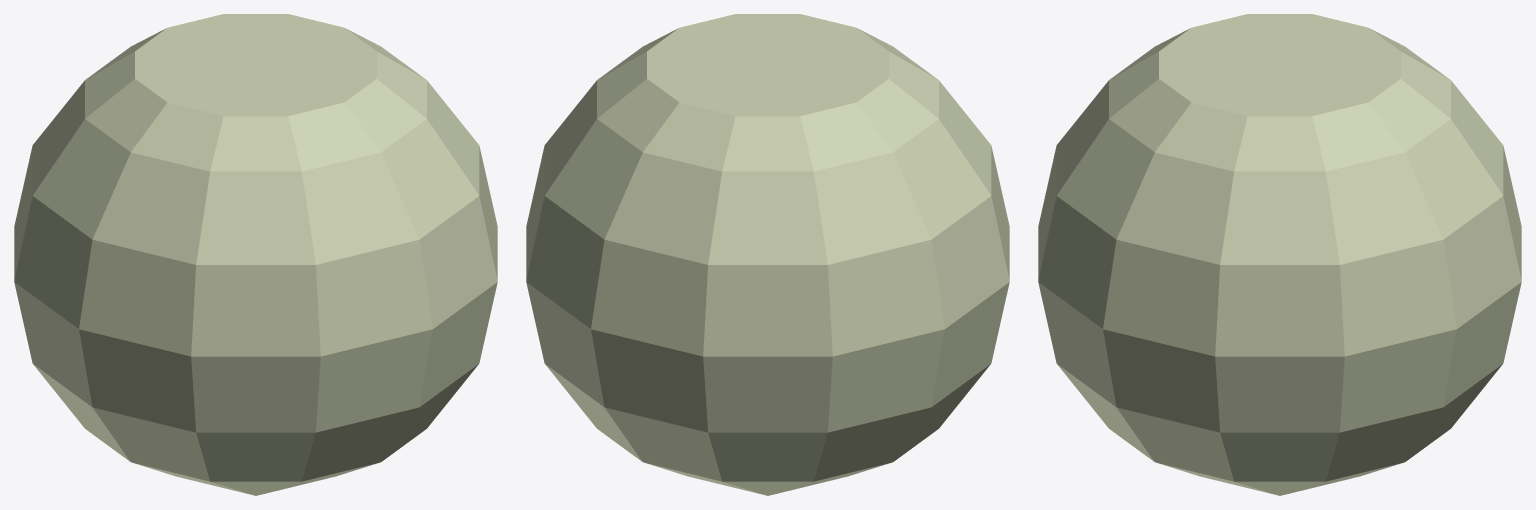
File: Andromeda_Crew_1_Collider.obj
3 views of the same model, side by side, from view 1: azimuth 30°, elevation 25°; view 2: azimuth 150°, elevation 25°; view 3: azimuth 270°, elevation 25° (orthographic).
Parts seen in each view (by area): view 1: Andromeda_Crew_1_Collider; view 2: Andromeda_Crew_1_Collider; view 3: Andromeda_Crew_1_Collider.
Boxes of the visible parts, bbox=[...] form: Andromeda_Crew_1_Collider: bbox=[14, 14, 497, 495]; Andromeda_Crew_1_Collider: bbox=[526, 14, 1009, 495]; Andromeda_Crew_1_Collider: bbox=[1038, 14, 1521, 495].
Size of the model in its own units: 1.25 by 1.17 by 1.25.
